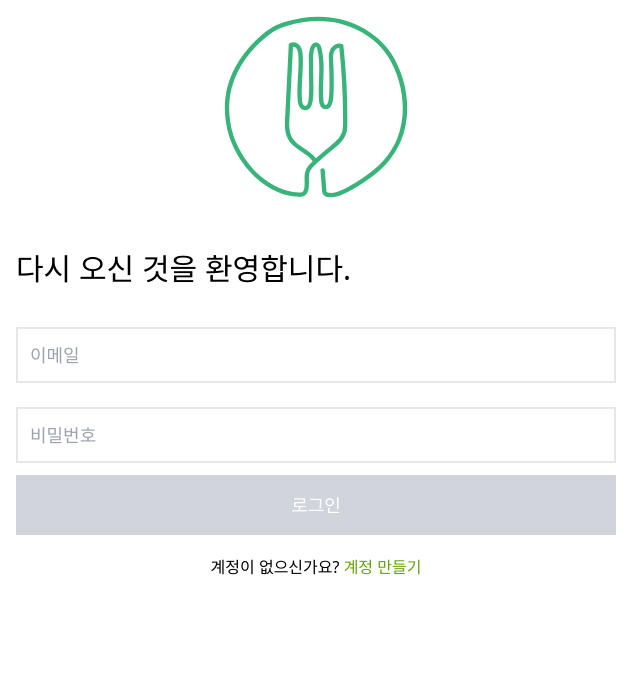
it: 계정 만들기 › 이메일/비밀번호 유효성 검사의 오류를 표시해야 합니다.
Click the link "계정 만들기" at (383, 567), box [344, 556, 422, 578]
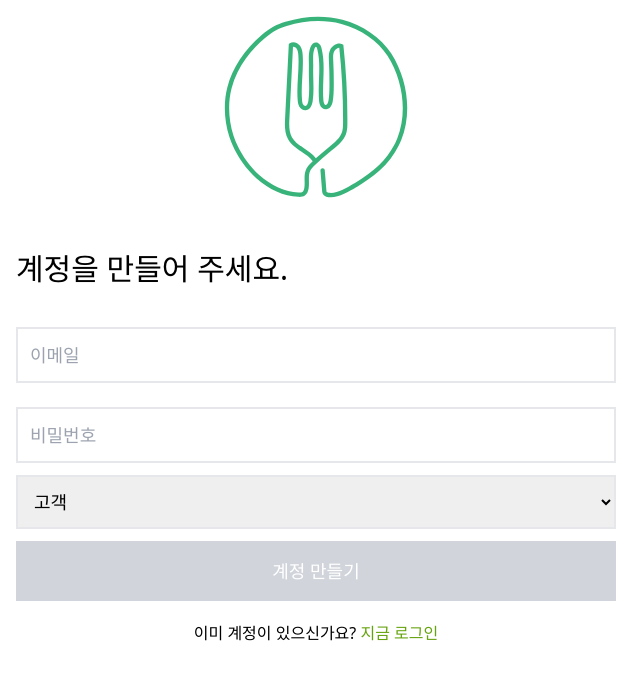
Type "bad@mail" into the field with placeholder "이메일" at (316, 355), box [16, 327, 616, 383]
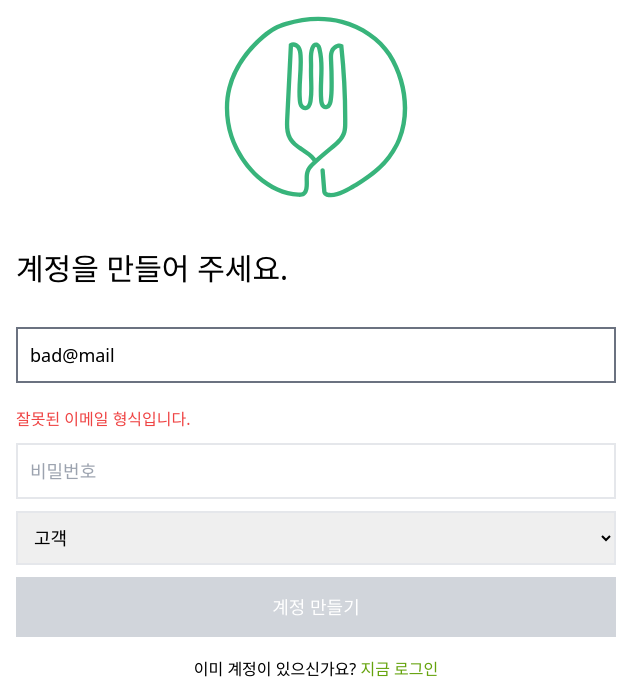
Check: the message reads "잘못된 이메일 형식입니다.", box [16, 408, 191, 430]
Clear the field with placeholder "이메일" at (316, 355), box [16, 327, 616, 383]
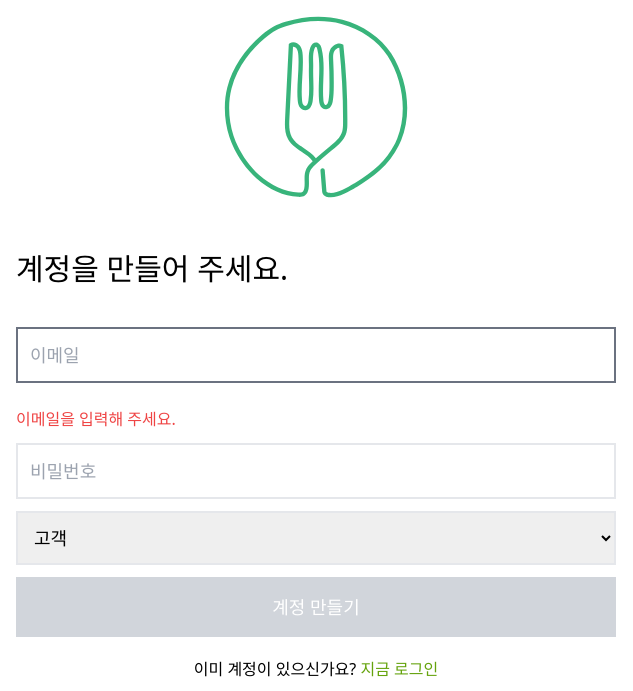
Check: the message reads "이메일을 입력해 주세요.", box [16, 408, 176, 430]
Type "real@email.com" into the field with placeholder "이메일" at (316, 355), box [16, 327, 616, 383]
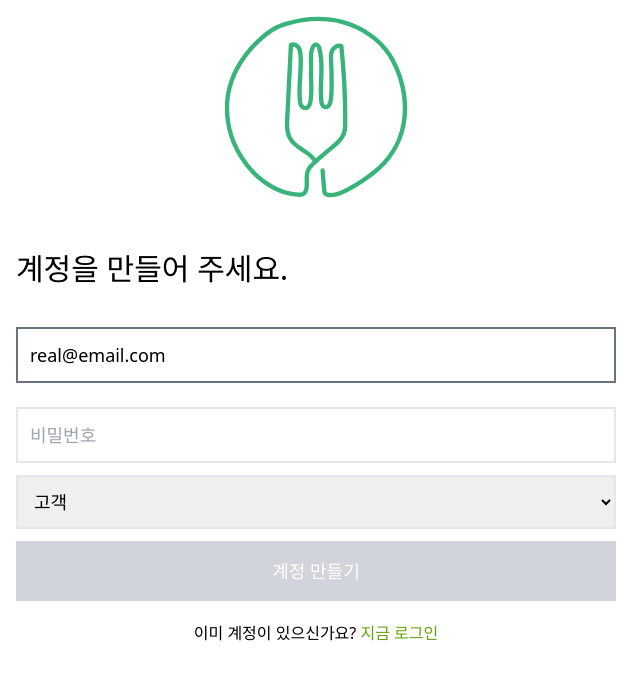
Type "error" into the password field with placeholder "비밀번호" at (316, 435), box [16, 407, 616, 463]
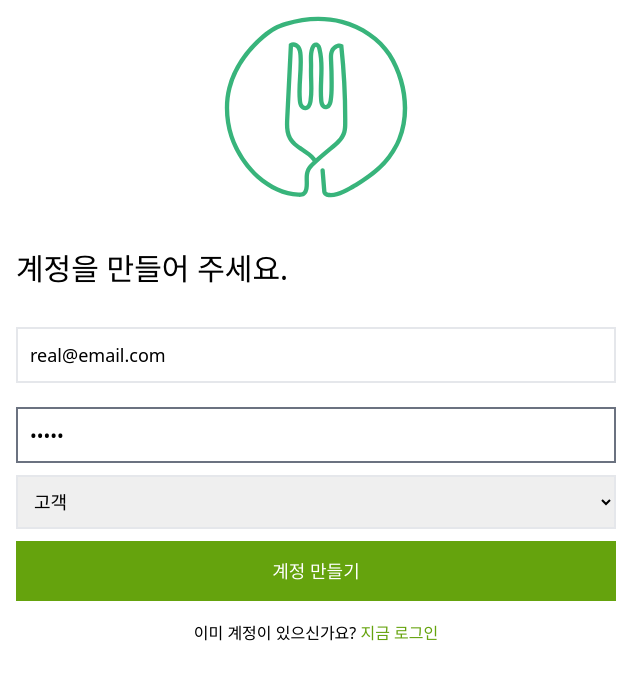
Clear the password field with placeholder "비밀번호" at (316, 435), box [16, 407, 616, 463]
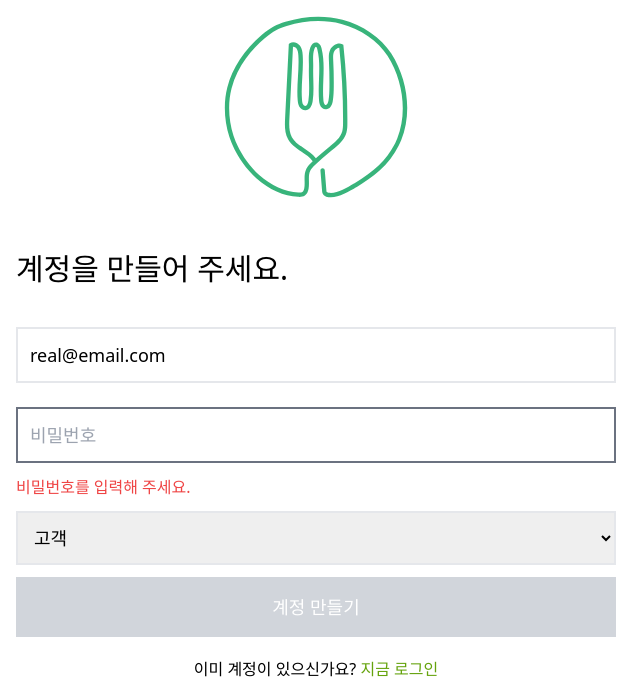
Check: the message reads "비밀번호를 입력해 주세요.", box [16, 476, 191, 498]
